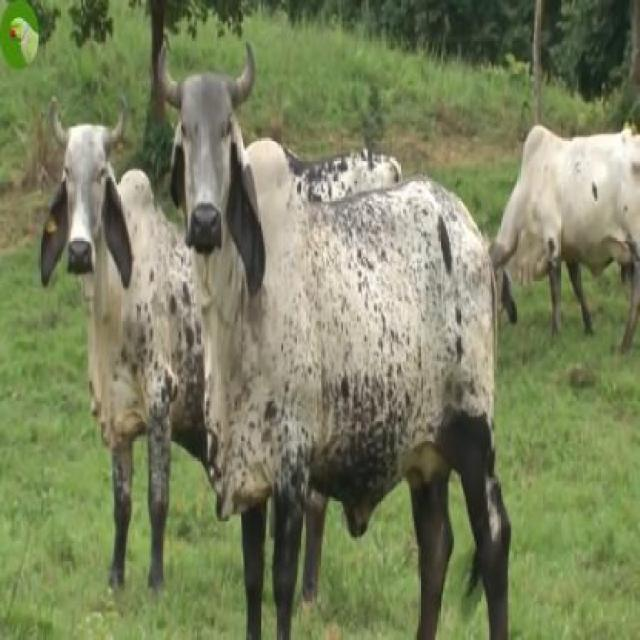Cow: (157, 44, 512, 638), (49, 91, 182, 571)
